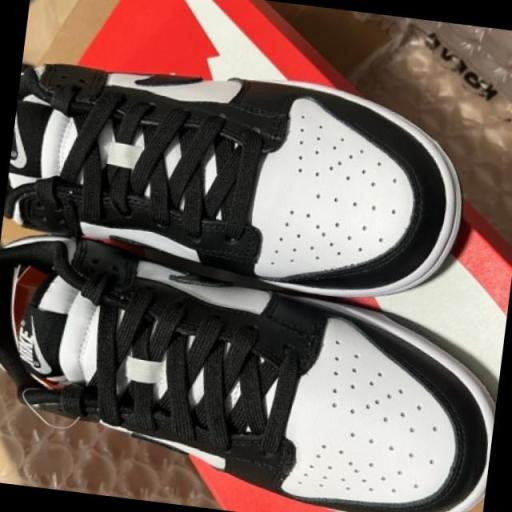Nike: (9, 115, 33, 168), (16, 328, 38, 365)
